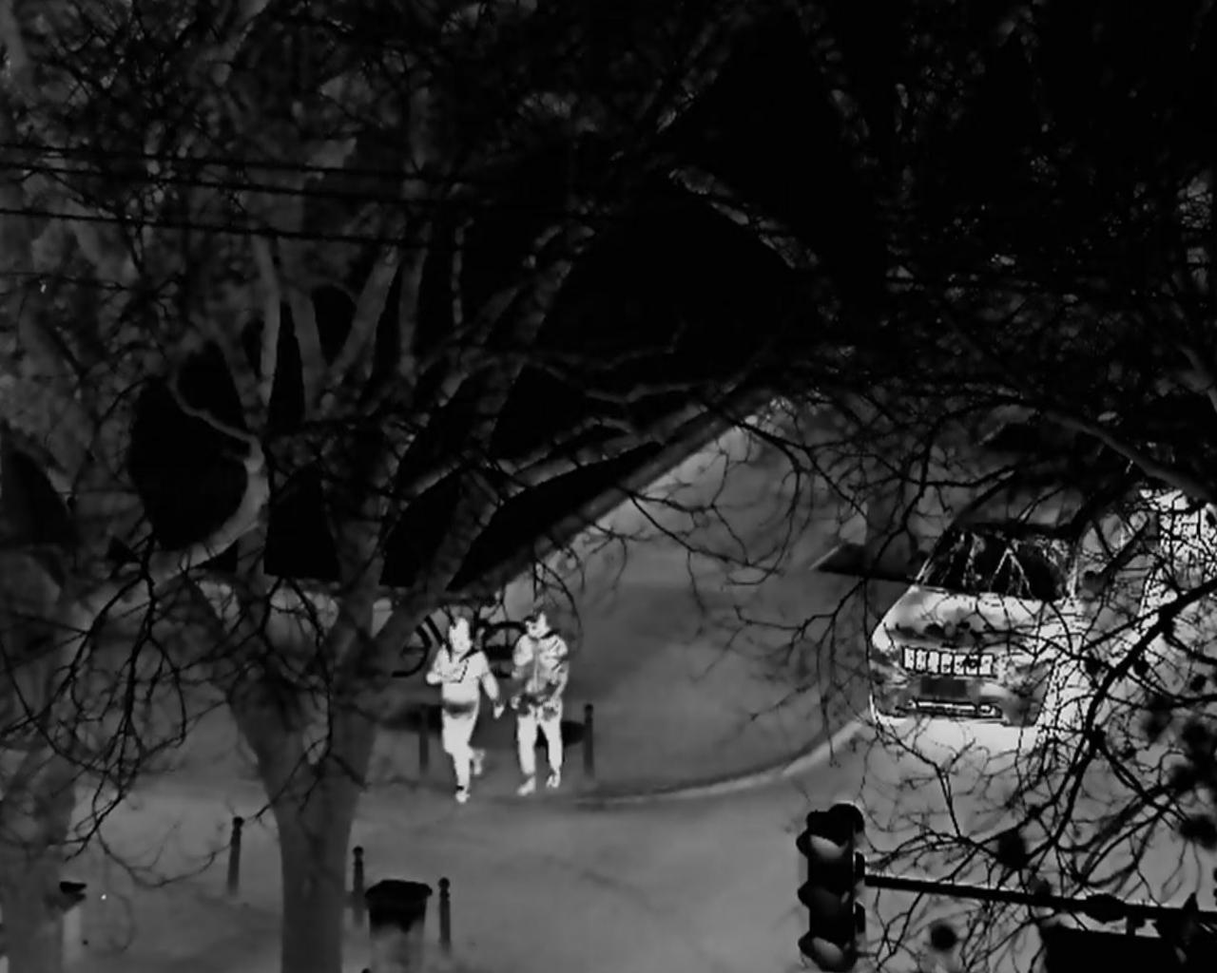person: (423, 616, 505, 805), (511, 610, 571, 794)
